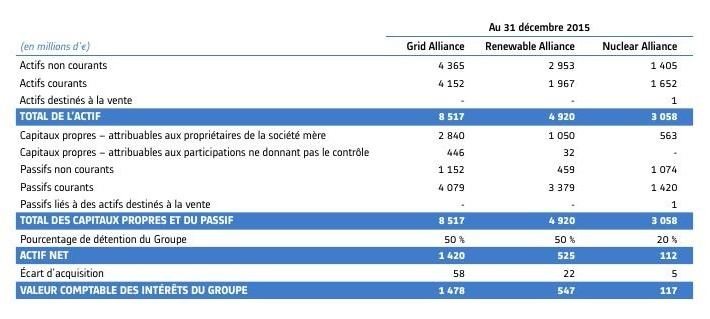table: (0, 0, 710, 319)
